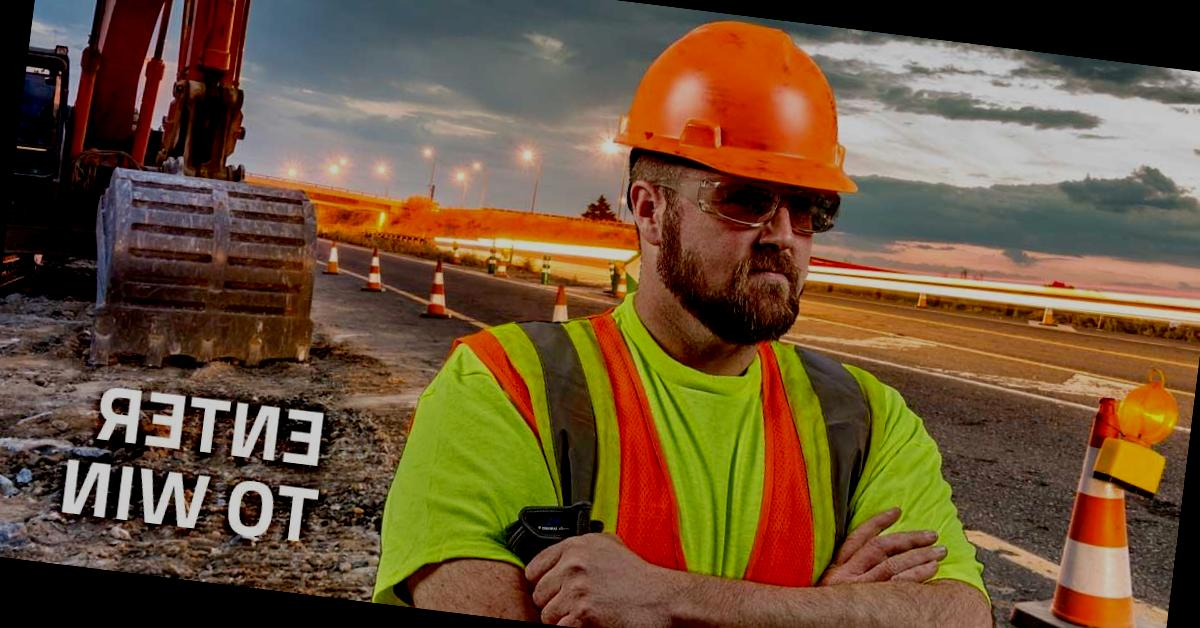helmet: (598, 5, 881, 205)
person: (389, 0, 990, 628)
